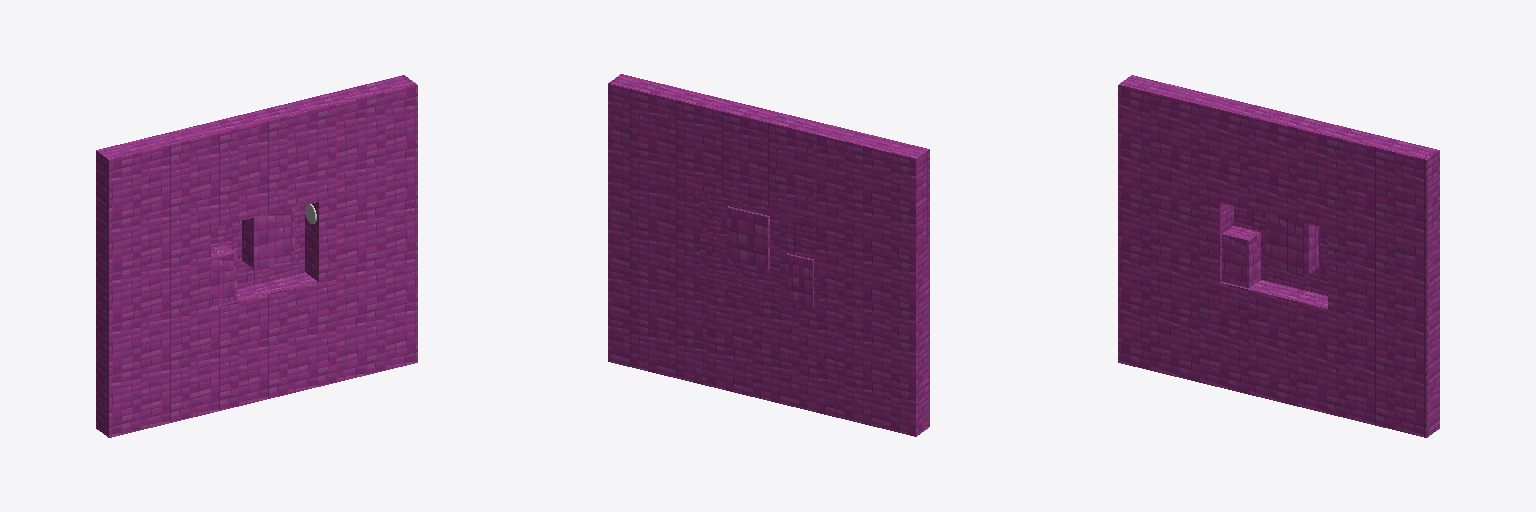
3 views of the same model, side by side, from view 1: azimuth 30°, elevation 25°; view 2: azimuth 150°, elevation 25°; view 3: azimuth 330°, elevation 25° (orthographic).
Visible parts, largest first — view 1: Cube, Cube.003_Cube.004, Plane, Cube.001; view 2: Cube, Plane, Cube.003_Cube.004, Cube.001; view 3: Cube, Cube.003_Cube.004, Plane, Cube.001.
Boxes of the visible parts, x1,y1,x2,y2 form: Cube: [96, 75, 417, 437]; Cube.003_Cube.004: [242, 208, 294, 268]; Plane: [211, 205, 304, 288]; Cube.001: [211, 245, 236, 306]; Cube: [608, 74, 929, 436]; Plane: [700, 192, 820, 315]; Cube.003_Cube.004: [727, 206, 769, 269]; Cube.001: [786, 253, 813, 307]; Cube: [1118, 75, 1439, 437]; Cube.003_Cube.004: [1266, 214, 1318, 274]; Plane: [1234, 206, 1327, 295]; Cube.001: [1222, 226, 1260, 287].
Bounding box in the file's own units: 40.25 × 34.68 × 3.34.
2 materials, 1 textured.